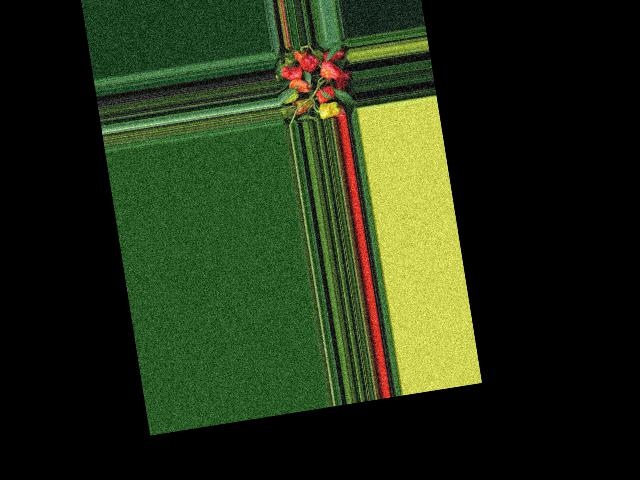bell_pepper: (293, 47, 305, 62)
